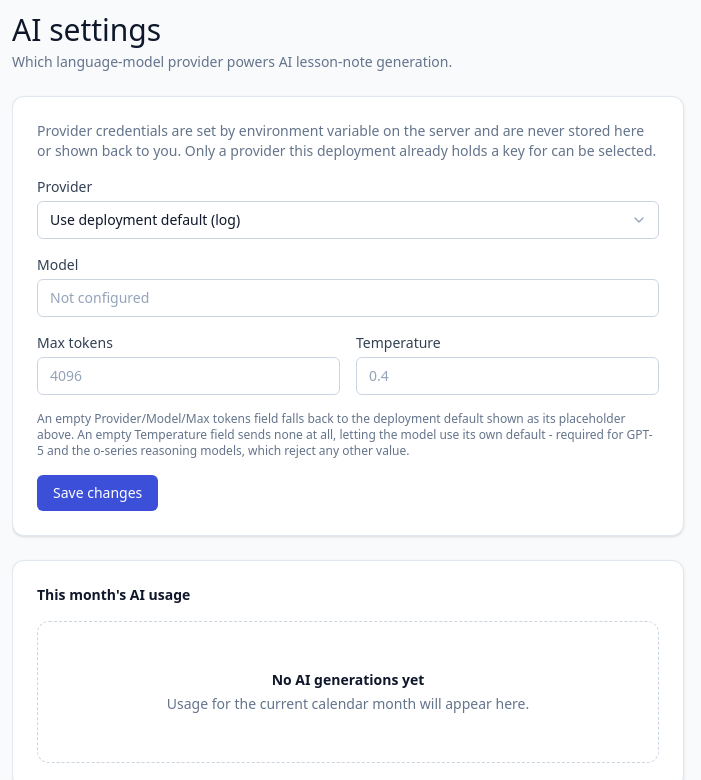
Scenario: AdminAiSettingsPage › loads the current settings, only offers available providers, saves, and shows a success alert
This screenshot has width=701, height=780.
Type "log-skeleton-v1" into the field labelled "Model". click: (348, 298)
box: [37,279,659,317]
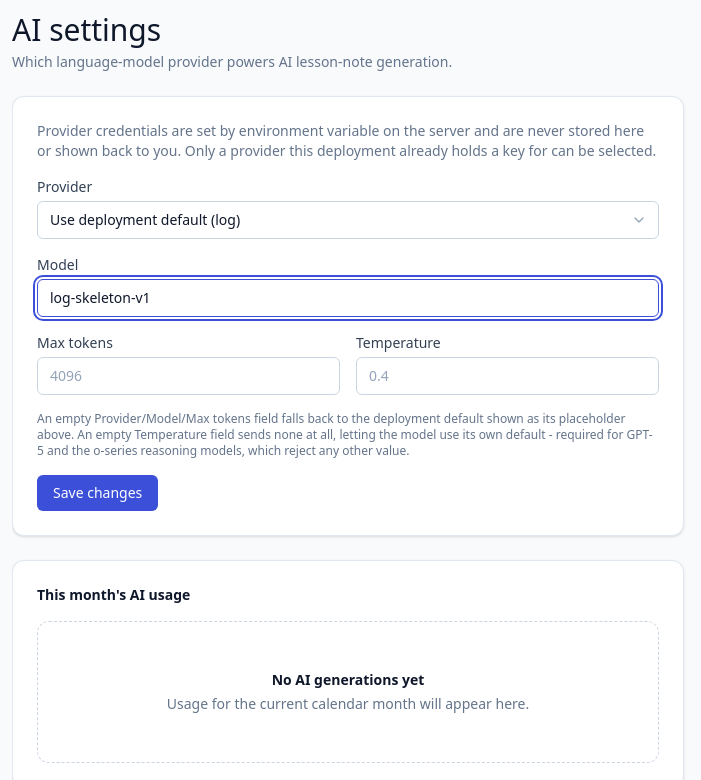
Click the button "Save changes". click: click(98, 493)
box: [37,475,158,511]
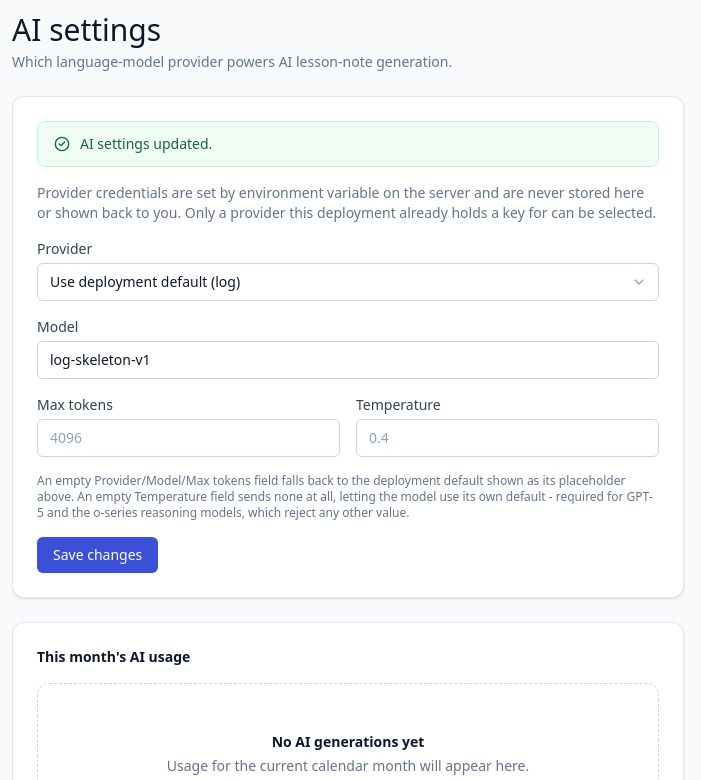
Expected: the dropdown labelled "Provider" is shown, [37,263,659,301]
Now the text "AI settings updated." is shown, box [80,134,212,154]
